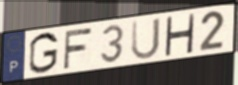2: (199, 9, 228, 54)
3: (97, 23, 126, 64)
F: (62, 26, 94, 71)
G: (28, 31, 60, 75)
H: (163, 12, 197, 56)
U: (130, 16, 162, 62)
